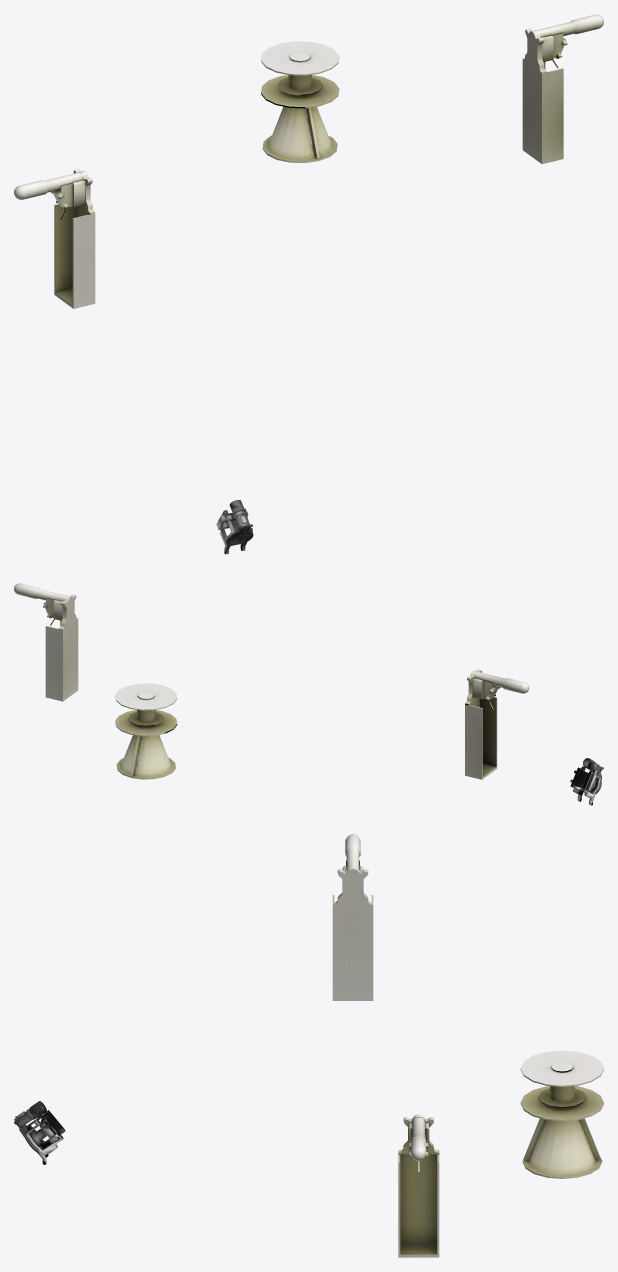
File: insight-sensors.glb
The picture shows the model from 3 angles, top to bottom: view 1: azimuth 30°, elevation 25°; view 2: azimuth 150°, elevation 25°; view 3: azimuth 270°, elevation 25°; orthographic projection. The views are drawn at different scales.
Parts seen in each view (by area): view 1: pressure_inlet, TWINS_SIDE_SURFACE_0_0, TWINS_SIDE_SURFACE_1_0, ICC; view 2: pressure_inlet, TWINS_SIDE_SURFACE_1_0, TWINS_SIDE_SURFACE_0_0, ICC; view 3: pressure_inlet, TWINS_SIDE_SURFACE_0_0, TWINS_SIDE_SURFACE_1_0, ICC.
Boxes of the visible parts, bbox=[...] form: pressure_inlet: bbox=[261, 41, 339, 162]; TWINS_SIDE_SURFACE_0_0: bbox=[14, 169, 95, 308]; TWINS_SIDE_SURFACE_1_0: bbox=[522, 14, 603, 164]; ICC: bbox=[216, 500, 253, 554]; pressure_inlet: bbox=[115, 683, 177, 779]; TWINS_SIDE_SURFACE_1_0: bbox=[14, 583, 78, 701]; TWINS_SIDE_SURFACE_0_0: bbox=[465, 669, 529, 779]; ICC: bbox=[570, 758, 603, 805]; pressure_inlet: bbox=[520, 1050, 603, 1178]; TWINS_SIDE_SURFACE_0_0: bbox=[332, 834, 373, 1000]; TWINS_SIDE_SURFACE_1_0: bbox=[398, 1114, 439, 1257]; ICC: bbox=[14, 1101, 65, 1164].
Bounding box in the file's own units: 1.38 × 0.5894 × 1.08.
3 materials, 3 textured.
